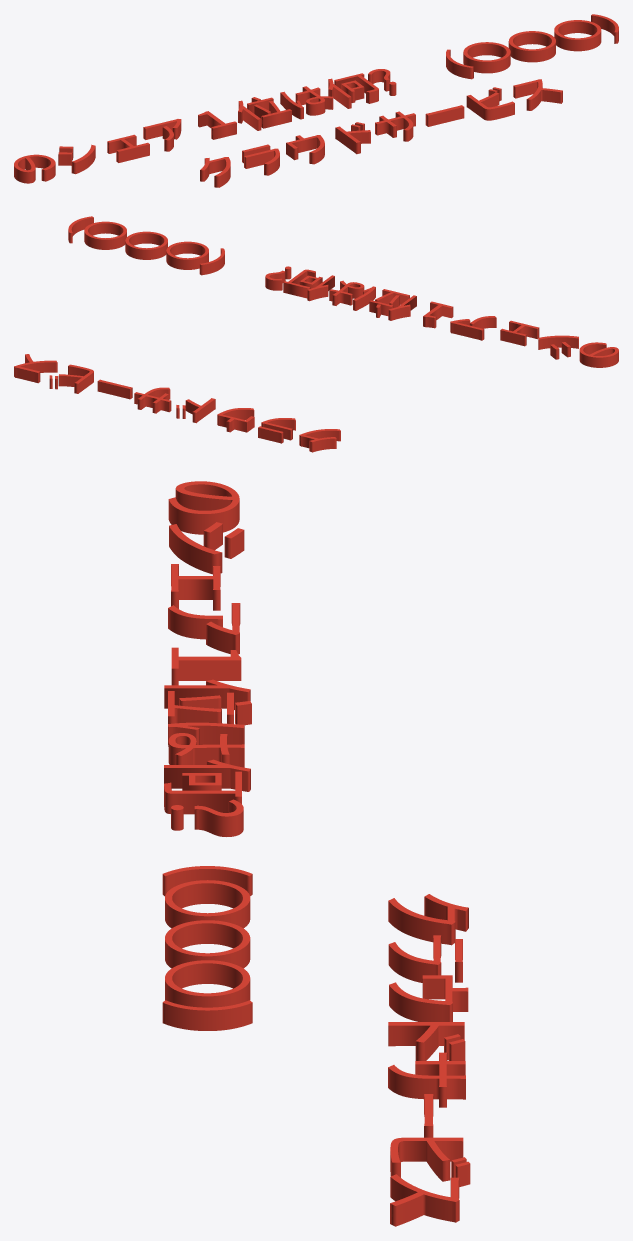
3 views of the same model, one above another, from view 1: azimuth 30°, elevation 25°; view 2: azimuth 150°, elevation 25°; view 3: azimuth 270°, elevation 25° (orthographic). The views are drawn at different scales.
Visible parts, largest first — view 1: テキスト.003, テキスト.001; view 2: テキスト.003, テキスト.001; view 3: テキスト.003, テキスト.001.
Part boxes in pixels (x1=…): テキスト.003: x1=14, y1=14, x2=618, y2=183; テキスト.001: x1=200, y1=79, x2=562, y2=187; テキスト.003: x1=68, y1=216, x2=618, y2=367; テキスト.001: x1=14, y1=354, x2=340, y2=452; テキスト.003: x1=162, y1=481, x2=252, y2=1030; テキスト.001: x1=388, y1=894, x2=470, y2=1226.
Bounding box in the file's own units: 13.23 × 2.51 × 3.25.
